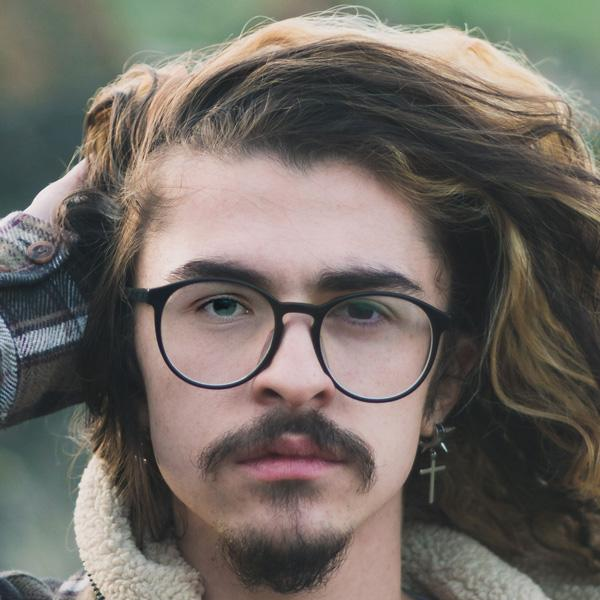Eyes: (185, 279, 263, 337), (325, 286, 392, 332)
